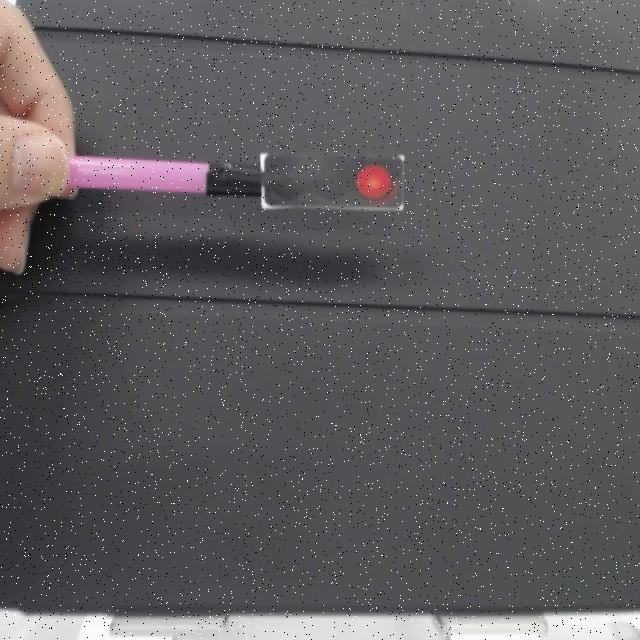traffic light: (259, 148, 413, 219)
